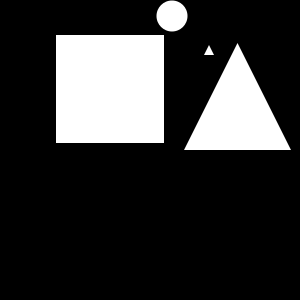circle: (56, 35, 164, 143), (91, 96, 99, 104)
rectangle: (157, 1, 188, 32)
triangle: (184, 43, 291, 150), (204, 45, 214, 55)
